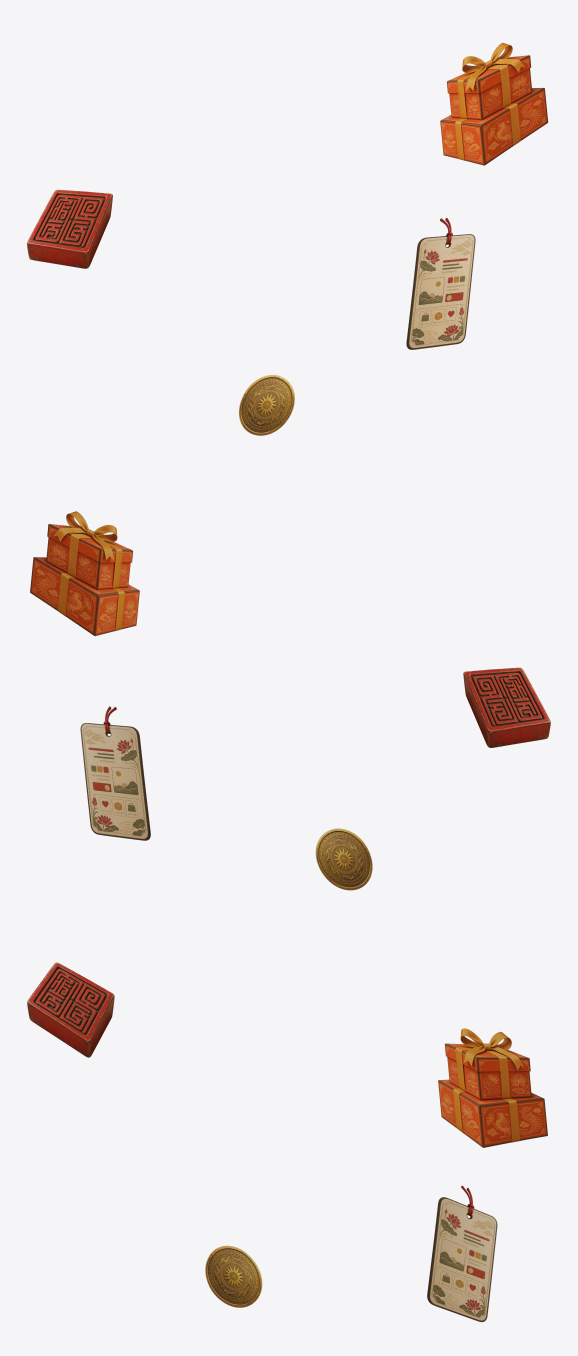
File: POS_v53_Hub_251208v2_compressed-optimized-57d7b13dbb.glb
3 views of the same model, one above another, from view 1: azimuth 30°, elevation 25°; view 2: azimuth 150°, elevation 25°; view 3: azimuth 330°, elevation 25° (orthographic).
Visible parts, largest first — view 1: Vietfolk_retail_giftbox, Vietfolk_retail_tag, Vietfolk_retail_stamp, Vietfolk_retail_coin; view 2: Vietfolk_retail_giftbox, Vietfolk_retail_tag, Vietfolk_retail_stamp, Vietfolk_retail_coin; view 3: Vietfolk_retail_giftbox, Vietfolk_retail_tag, Vietfolk_retail_stamp, Vietfolk_retail_coin.
Part boxes in pixels (x1,y1,x2,y2): Vietfolk_retail_giftbox: (440, 43, 547, 165); Vietfolk_retail_tag: (406, 218, 475, 349); Vietfolk_retail_stamp: (27, 189, 112, 268); Vietfolk_retail_coin: (239, 375, 294, 435); Vietfolk_retail_giftbox: (30, 511, 139, 635); Vietfolk_retail_tag: (80, 706, 150, 840); Vietfolk_retail_stamp: (463, 667, 550, 747); Vietfolk_retail_coin: (315, 828, 372, 890); Vietfolk_retail_giftbox: (438, 1028, 547, 1147); Vietfolk_retail_tag: (427, 1185, 497, 1321); Vietfolk_retail_stamp: (27, 962, 114, 1057); Vietfolk_retail_coin: (205, 1246, 262, 1307).
Size of the model in its own units: 2.74 by 1.68 by 0.22.
4 materials, 4 textured.
